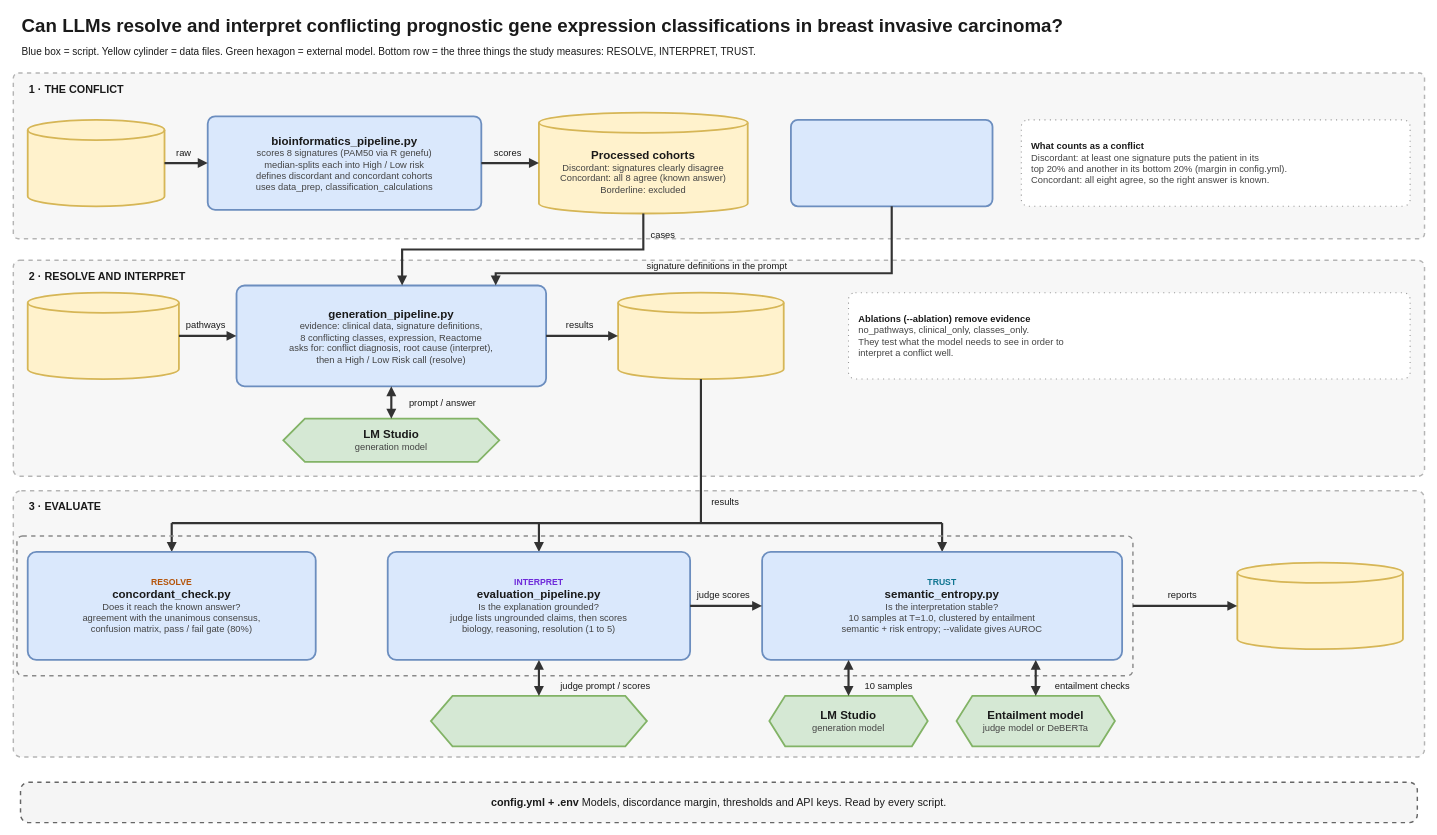
Image size: 1437x835. Some labels were removed from this diagram. Here are the shapes that lost their labels. From the top down, the box of each, then its label:
(26, 119, 165, 207): Input data TCGA-BRCA RNA-seq, clinical data
(790, 119, 993, 207): signature_definitions.py gene sets and weights, shared by scoring and prompts
(26, 291, 179, 380): Reactome pathways ReactomePathways.gmt
(617, 291, 784, 380): Generation results one CSV per model and ablation
(1236, 561, 1403, 650): Evaluation outputs agreement, judge scores, entropy, AUROC
(430, 695, 647, 747): LM Studio judge model
